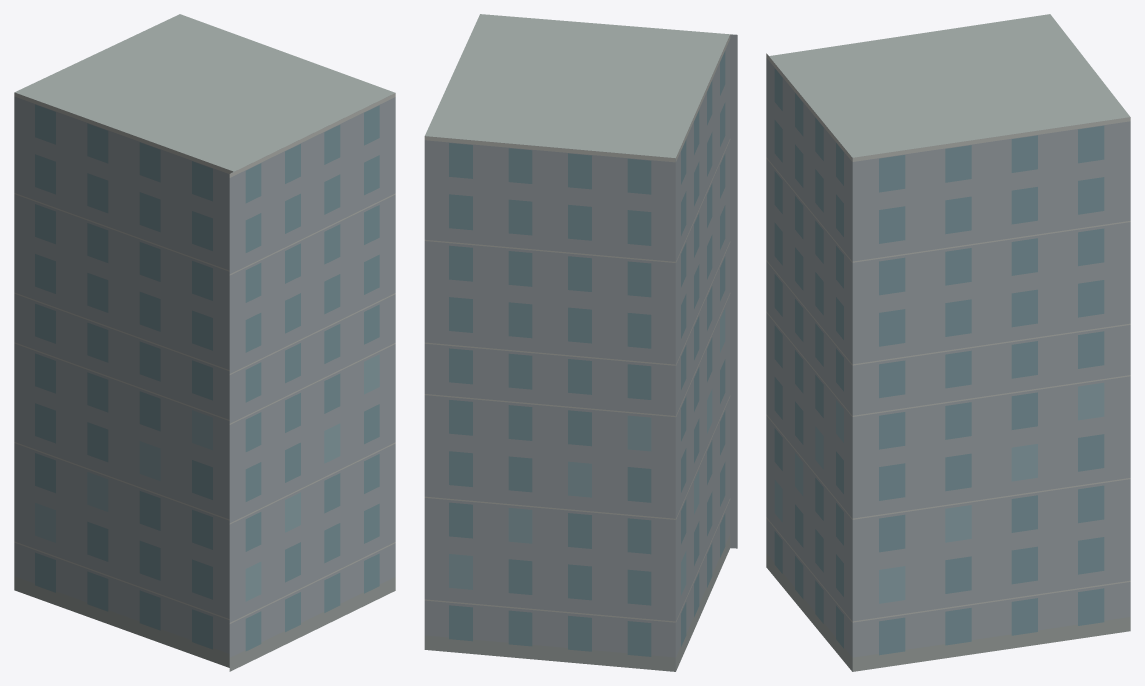
The model's file is survey-upis-32786391.glb.
3 renders of one model, left to right at view 1: azimuth 30°, elevation 25°; view 2: azimuth 150°, elevation 25°; view 3: azimuth 270°, elevation 25°, orthographic. The views are drawn at different scales.
Parts seen in each view (by area): view 1: survey-upis-32786391.tmp; view 2: survey-upis-32786391.tmp; view 3: survey-upis-32786391.tmp.
Part boxes in pixels (<box>): survey-upis-32786391.tmp: <box>14,14,395,671</box>; survey-upis-32786391.tmp: <box>424,14,737,671</box>; survey-upis-32786391.tmp: <box>766,14,1130,671</box>.
Size of the model in its own units: 17.78 by 29.6 by 19.03.
